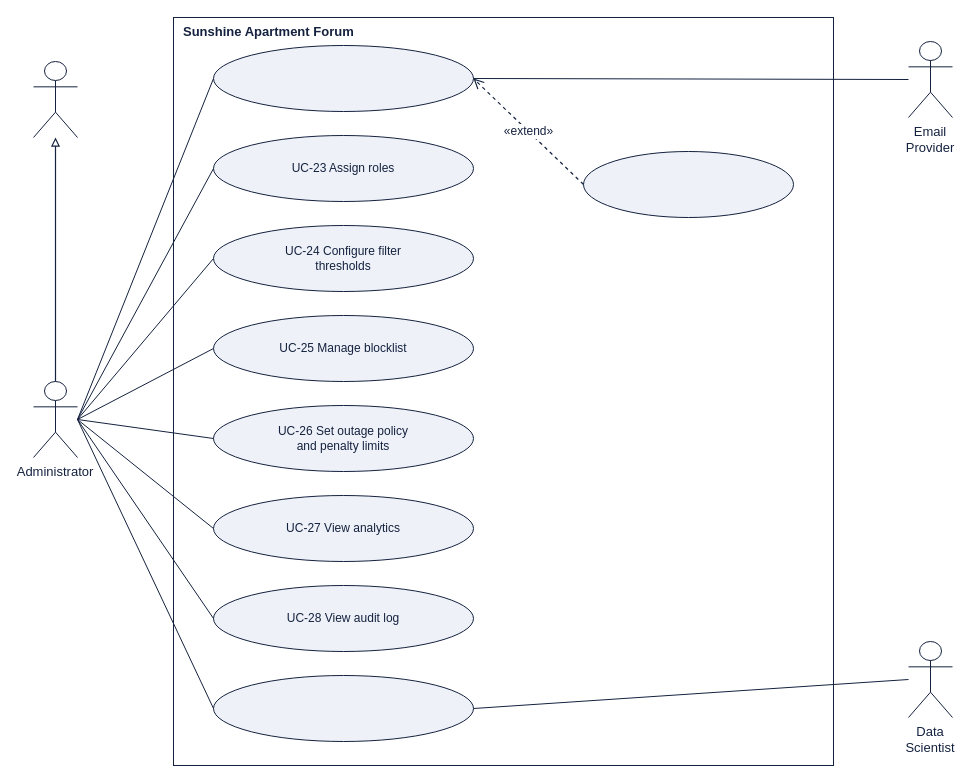
This 972x783 diagram has some shape labels left out. The centre of each missing label's shape, as x and y in pixels:
"Manager" belongs at point 55,99.
"UC-21 Invite or deactivate resident" belongs at point 343,78.
"UC-22 Import registry once at launch" belongs at point 688,184.
"UC-29 Export corrections" belongs at point 343,708.
